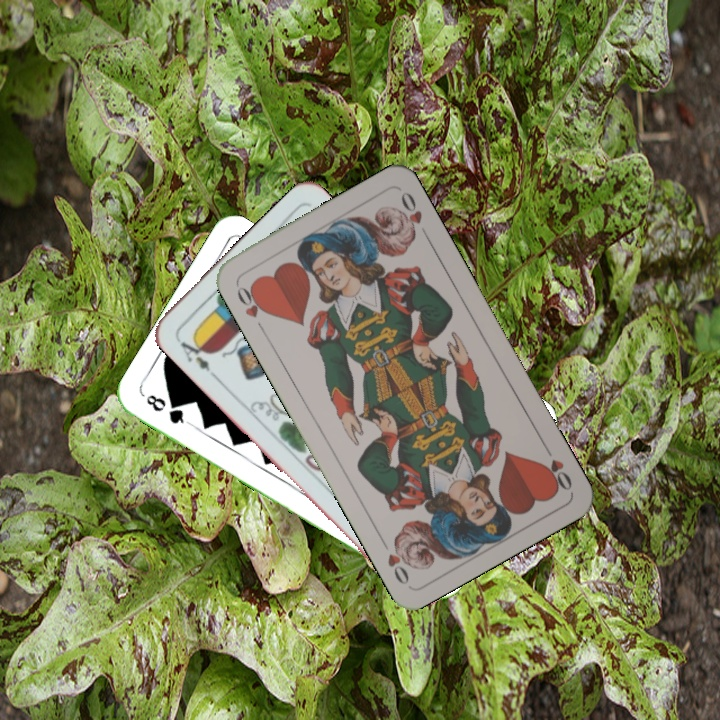EA: (173, 332, 219, 380)
G8: (141, 390, 193, 427)
HO: (232, 280, 271, 334), (538, 440, 575, 494)
